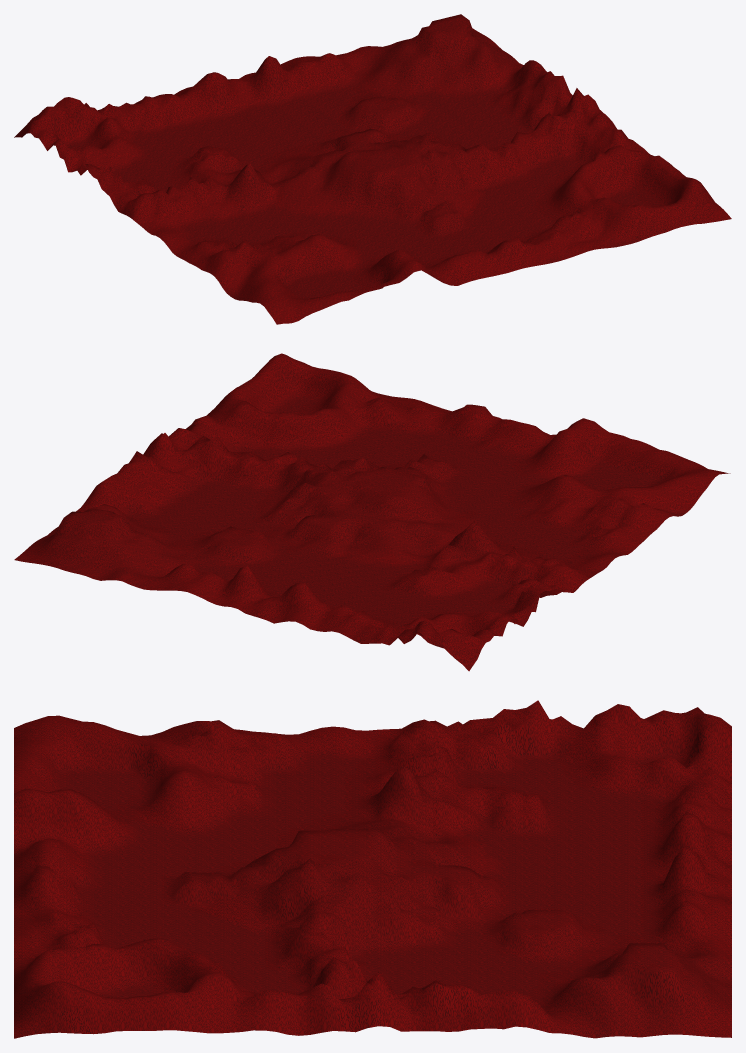
File: map_visual.gltf
The picture shows the model from 3 angles, top to bottom: view 1: azimuth 30°, elevation 25°; view 2: azimuth 150°, elevation 25°; view 3: azimuth 270°, elevation 25°; orthographic projection. The views are drawn at different scales.
Visible parts, largest first — view 1: map2b.b3d; view 2: map2b.b3d; view 3: map2b.b3d.
Boxes of the visible parts, box(x1,y1,x2,y2) form: map2b.b3d: box(14, 14, 731, 324); map2b.b3d: box(14, 353, 730, 671); map2b.b3d: box(14, 700, 731, 1038).
Bounding box in the file's own units: 500 × 42.87 × 500.
4 materials, 4 textured.
